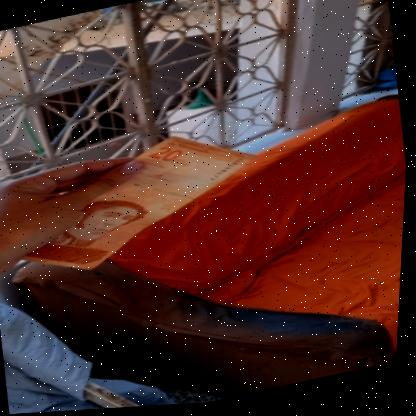twenty-front-vef: (5, 121, 271, 286)
